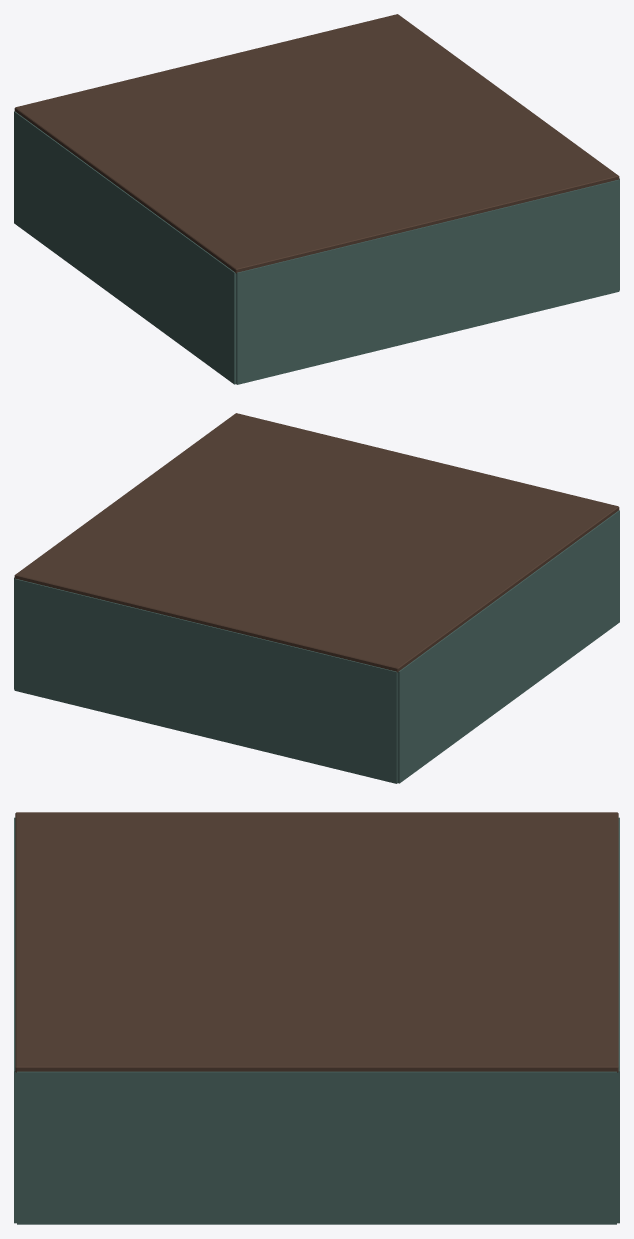
The model's file is owned-sensorial-workshop.glb.
3 renders of one model, top to bottom at view 1: azimuth 30°, elevation 25°; view 2: azimuth 150°, elevation 25°; view 3: azimuth 270°, elevation 25°, orthographic. The views are drawn at different scales.
Parts seen in each view (by area): view 1: Smoked walnut, Limewash teal; view 2: Smoked walnut, Limewash teal; view 3: Smoked walnut, Limewash teal.
Boxes of the visible parts, <box> form: Smoked walnut: <box>14,14,619,273</box>; Limewash teal: <box>14,111,619,384</box>; Smoked walnut: <box>14,413,619,672</box>; Limewash teal: <box>14,510,619,783</box>; Smoked walnut: <box>15,812,618,1072</box>; Limewash teal: <box>14,817,619,1224</box>.
Size of the model in its own units: 12.2 by 3.49 by 12.2.
